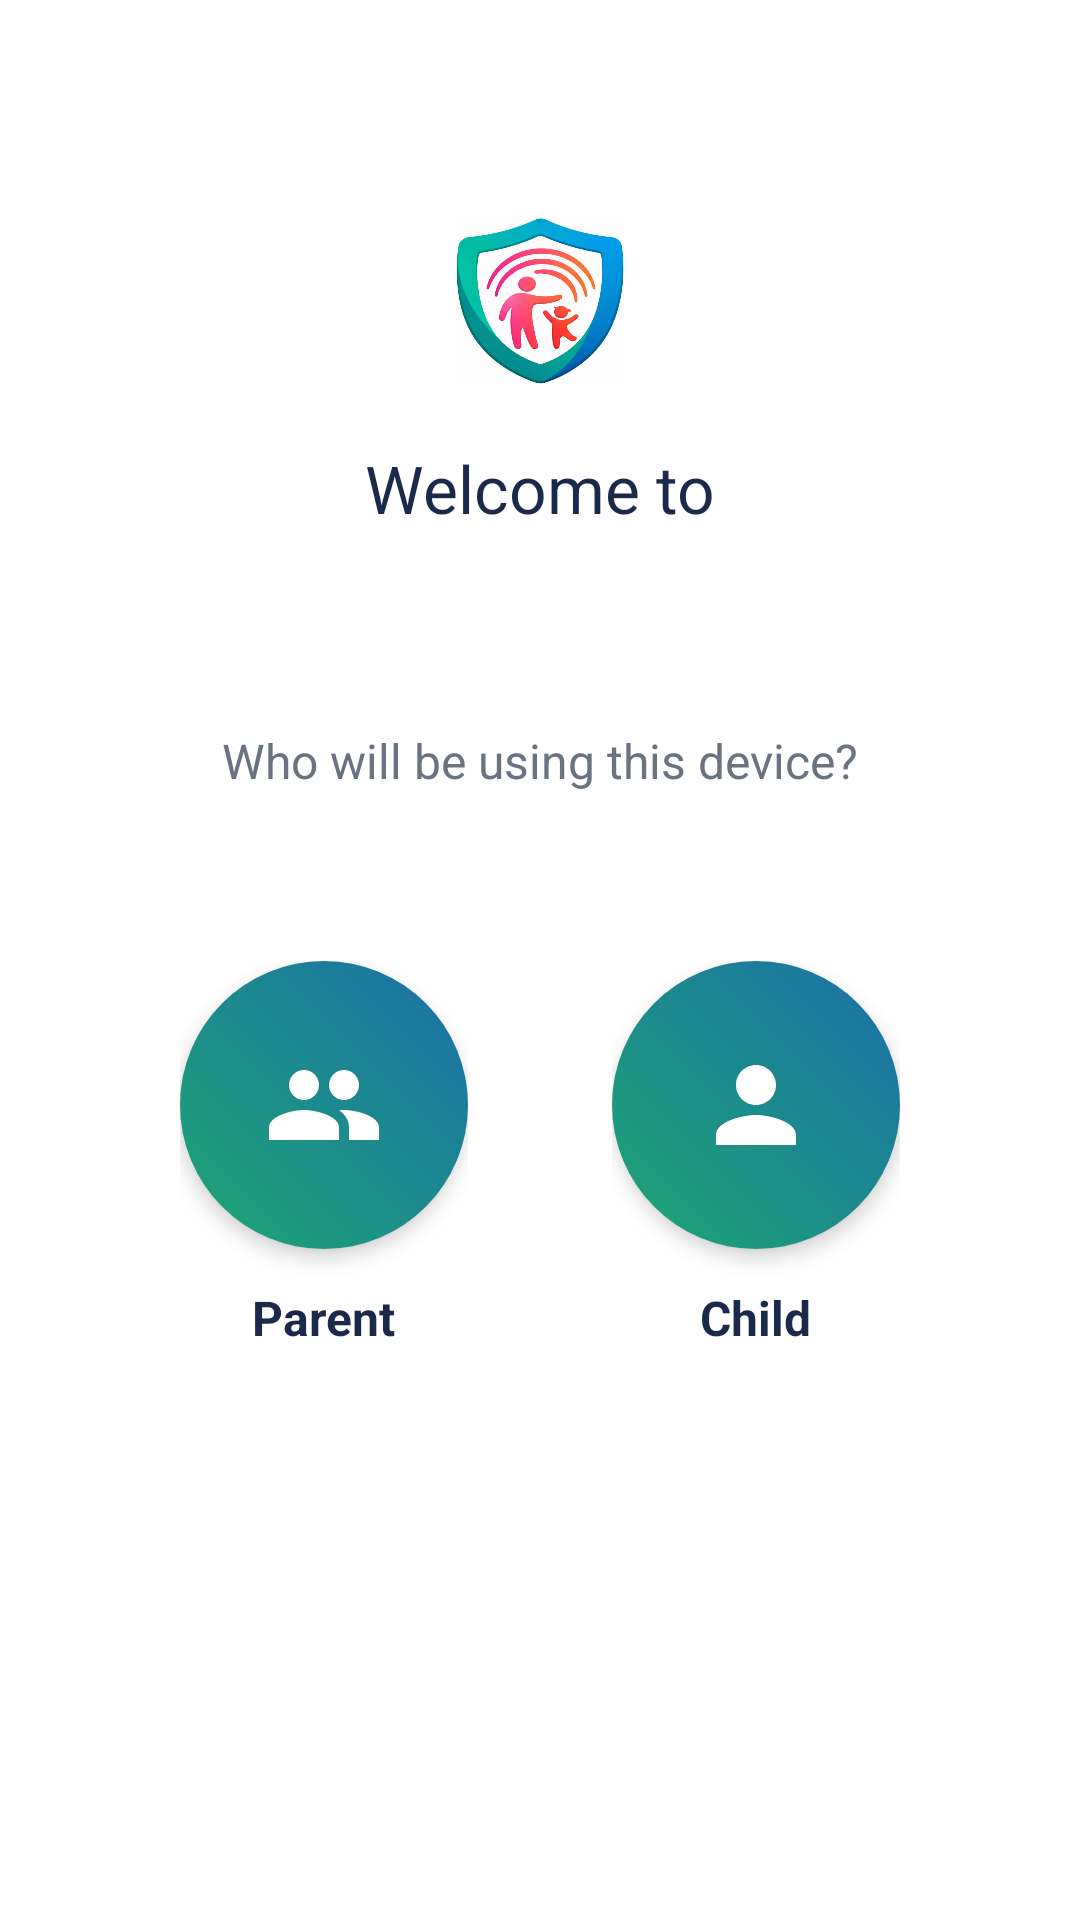

Icon click points for this 1080x1920 phone screenshot, format (x=x, y=y):
person group: (x=324, y=1105)
